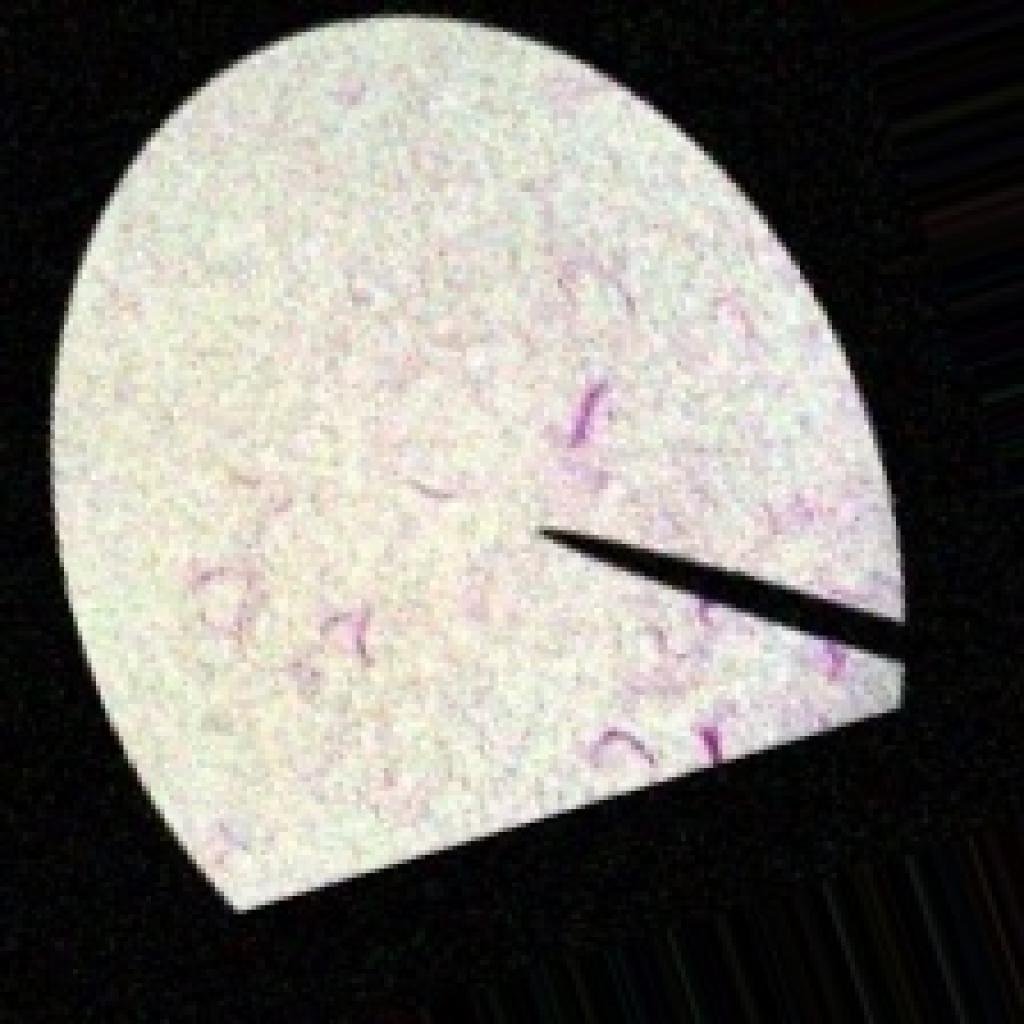Sprialbacteria: (46, 5, 914, 914)
